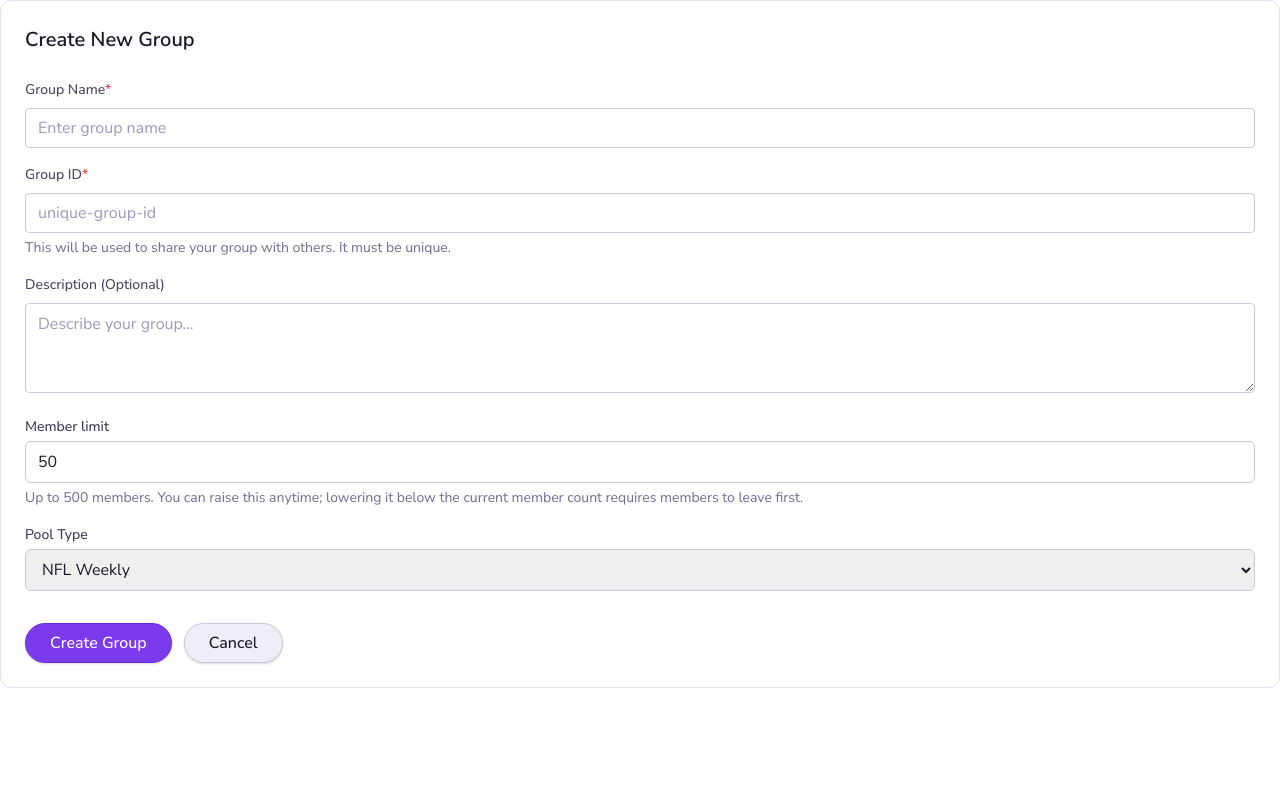
Test: CreateGroupForm › validation › shows error when identifier contains invalid characters
Type "My Group" into the field labelled "Group Name*" at [640, 128], box [25,108,1255,148]
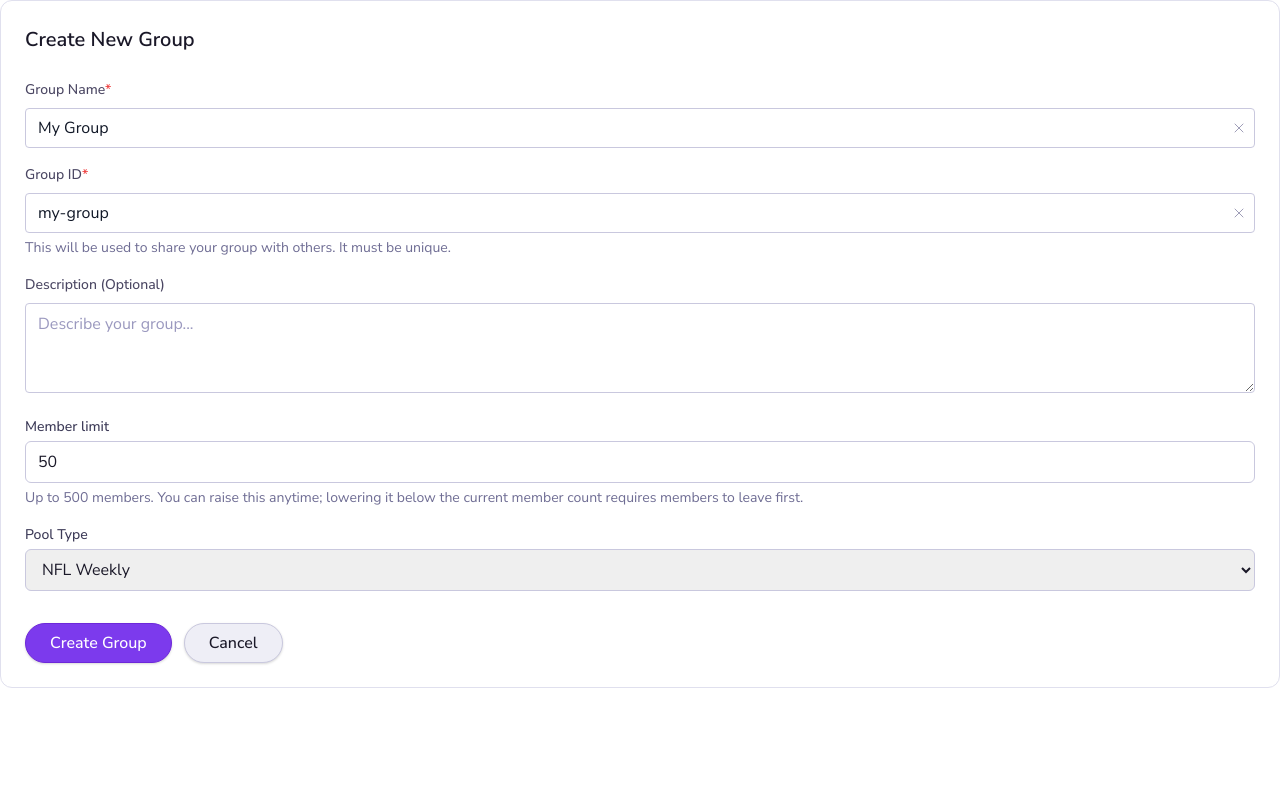
Replace the text in the field labelled "Group ID*" with "invalid id!" at [640, 213], box [25,193,1255,233]
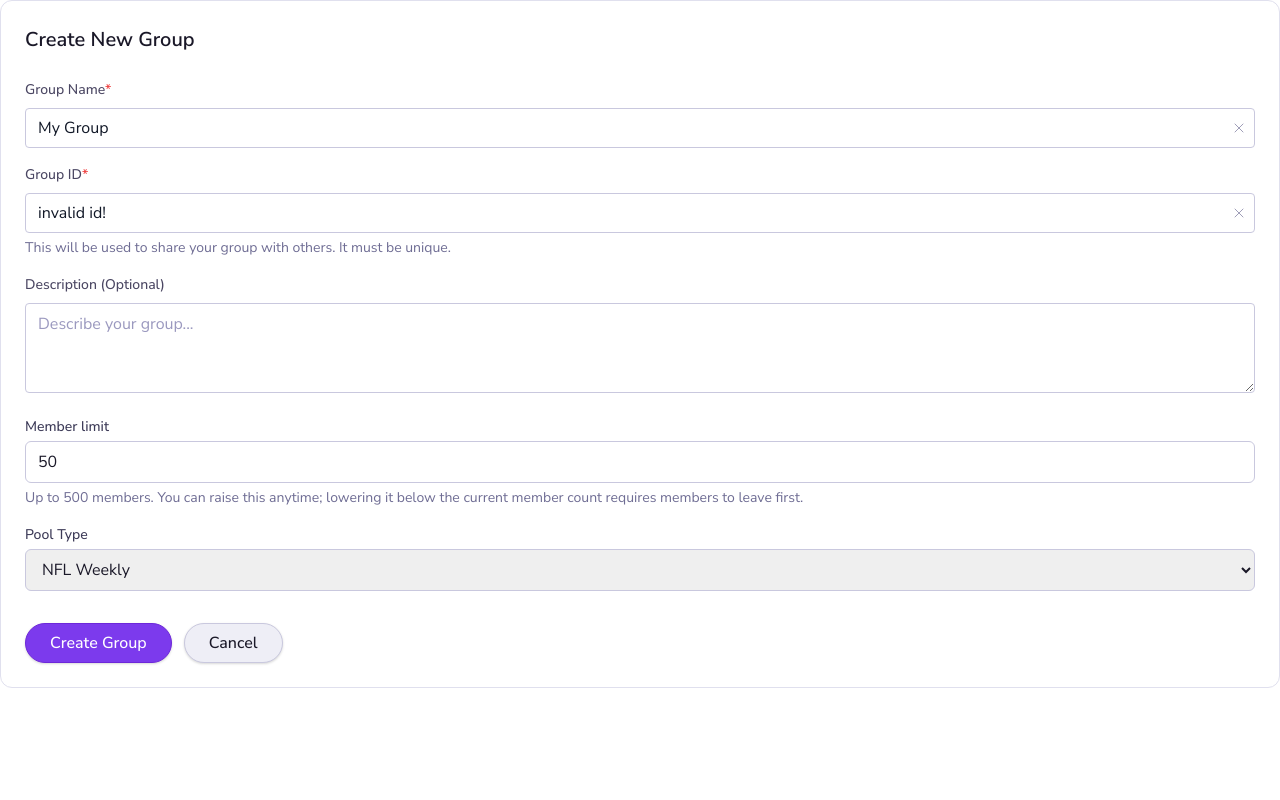
Submit the form named "Create Group"
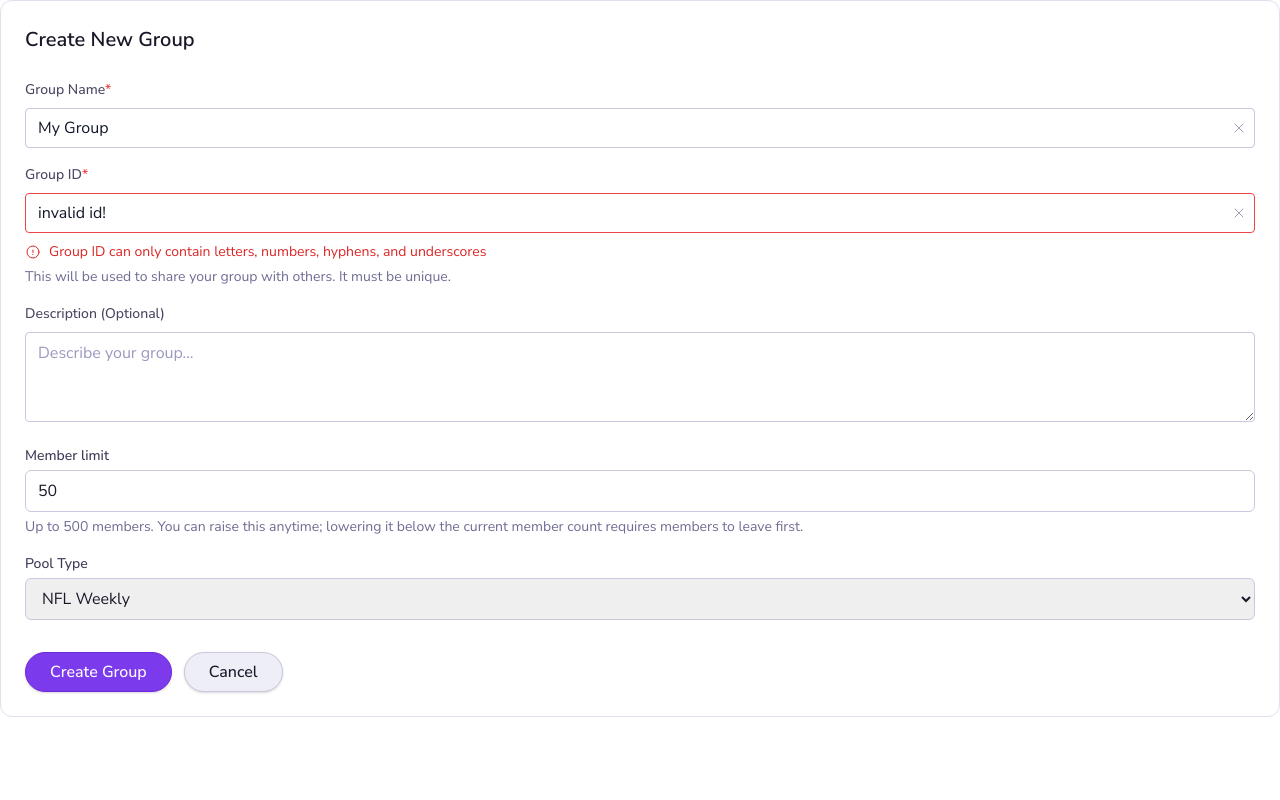
Result: the text "Group ID can only contain letters, numbers, hyphens, and underscores" is shown at [49,241,486,262]
